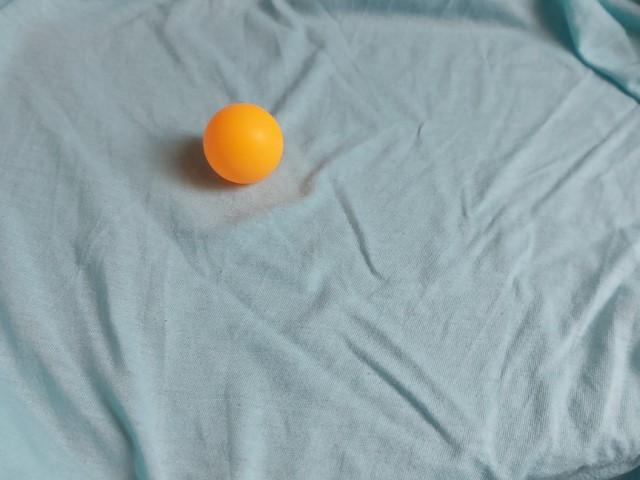oball: (196, 98, 288, 191)
